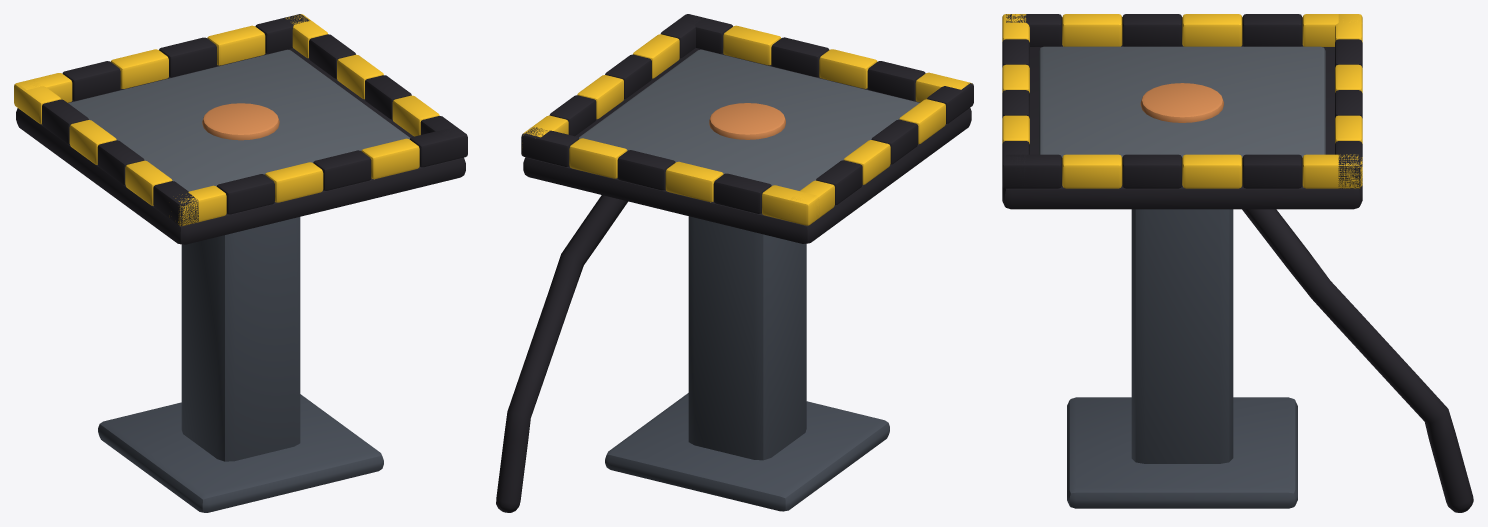
File: BatteryDock.fbx
The picture shows the model from 3 angles, left to right: view 1: azimuth 30°, elevation 25°; view 2: azimuth 150°, elevation 25°; view 3: azimuth 270°, elevation 25°; orthographic projection. The views are drawn at different scales.
Parts seen in each view (by area): view 1: Prop_BatteryDock; view 2: Prop_BatteryDock; view 3: Prop_BatteryDock.
Boxes of the visible parts, x1=… form: Prop_BatteryDock: x1=14, y1=14, x2=467, y2=512; Prop_BatteryDock: x1=496, y1=14, x2=973, y2=512; Prop_BatteryDock: x1=1002, y1=14, x2=1473, y2=512.
Size of the model in its own units: 0.78 by 0.895 by 1.02.
